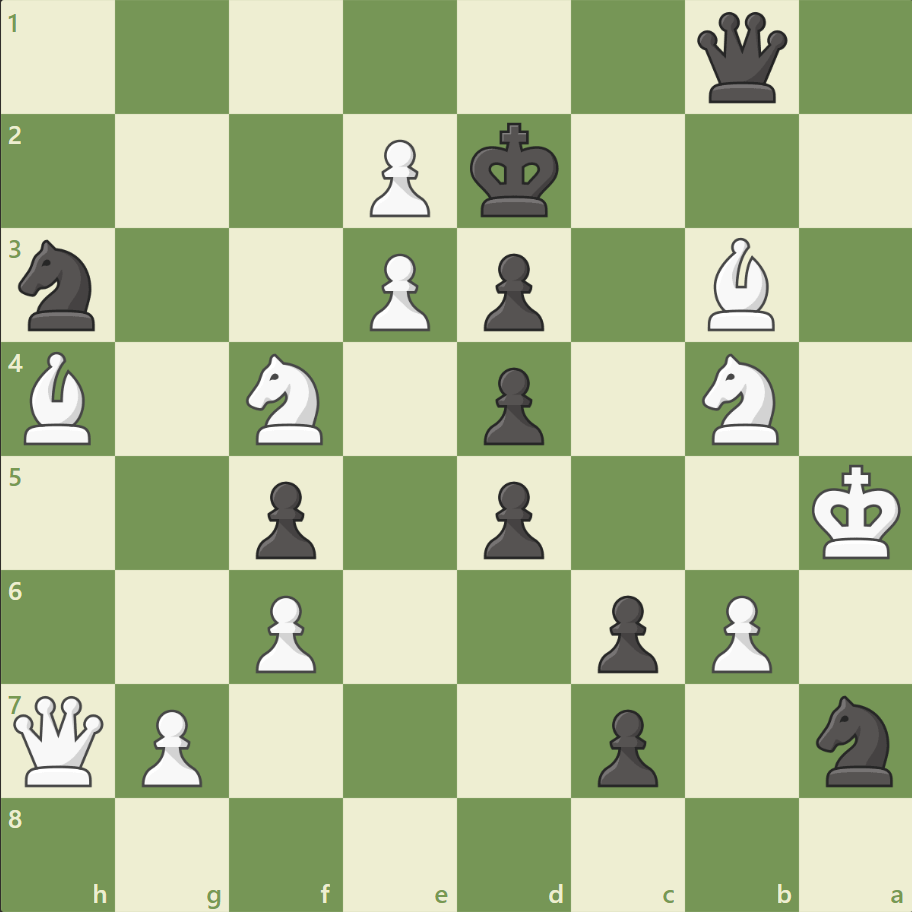B: (698, 233, 782, 336), (17, 347, 101, 449)
K: (806, 458, 906, 566)
N: (692, 348, 789, 450), (238, 348, 335, 450)
P: (133, 700, 208, 791), (701, 586, 776, 677), (247, 586, 322, 677), (361, 246, 435, 337), (361, 132, 435, 223)
Q: (10, 690, 109, 789)
k: (465, 117, 565, 225)
n: (806, 688, 903, 791), (11, 234, 108, 337)
p: (474, 473, 549, 564), (247, 473, 322, 564), (474, 359, 549, 450), (474, 246, 549, 337), (588, 700, 662, 791), (588, 586, 662, 677)
q: (691, 9, 790, 108)
